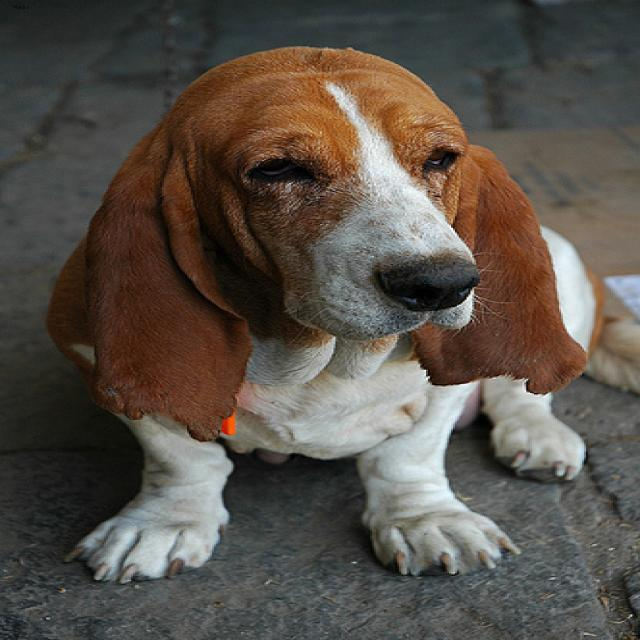dog-basset_hound: (25, 42, 636, 589)
